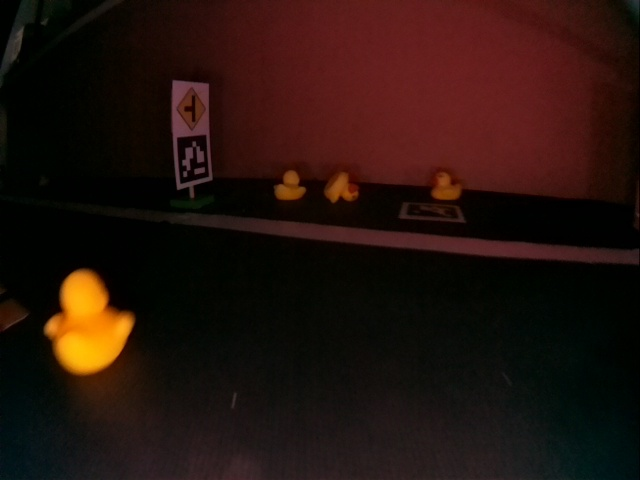Duckie: (45, 270, 134, 375), (325, 172, 359, 202), (430, 171, 461, 200), (274, 171, 304, 199)
Intersection sign: (173, 83, 209, 130)
QR code: (176, 133, 210, 183), (400, 201, 463, 222)
